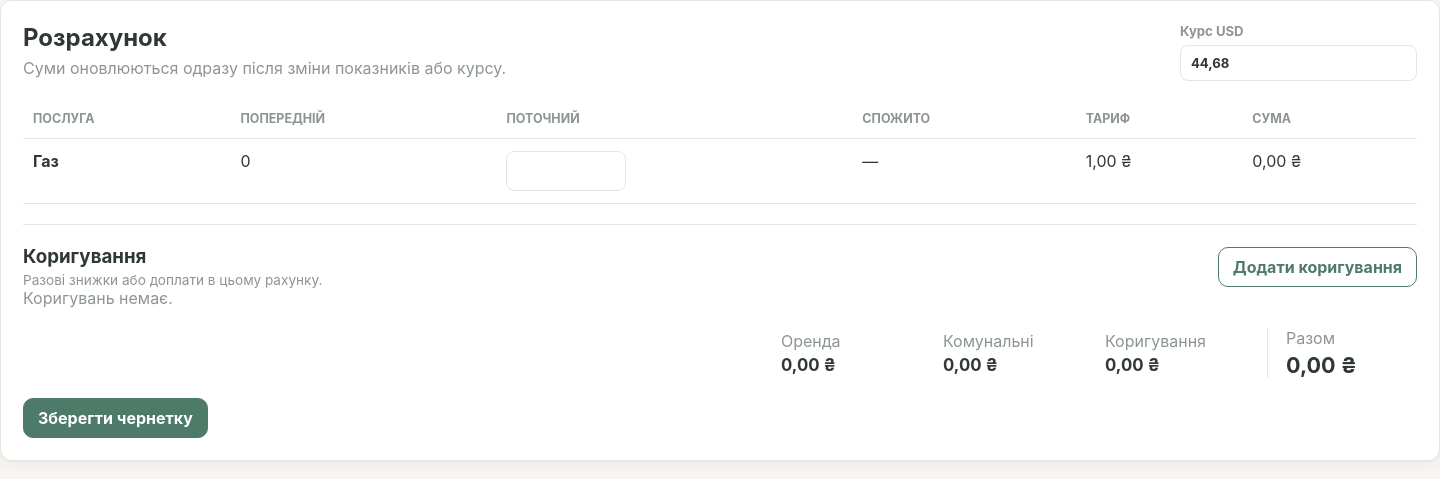
Test case: InvoiceCalculator › rounds decimal halves like backend ROUND_HALF_UP
Type "10.075" into the field named "Поточний показник Газ" at point(566, 171), box left=506, top=151, right=626, bottom=191
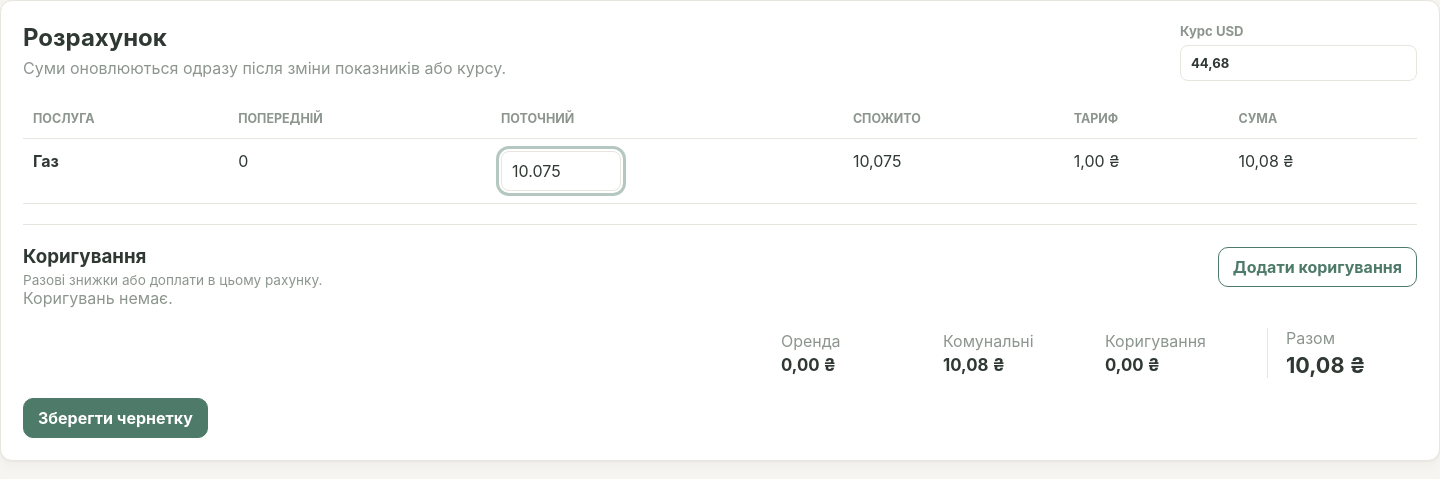
expect the text "10,08 ₴" is shown: met, box left=1228, top=138, right=1417, bottom=204
